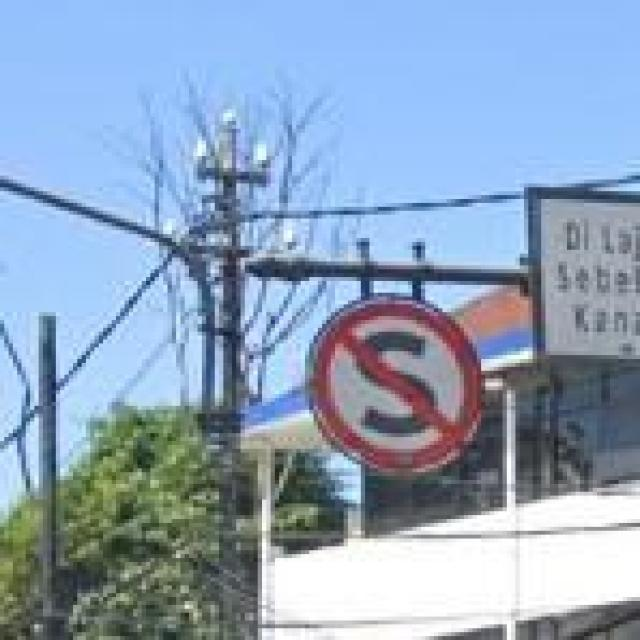traffic sign: (314, 305, 486, 473)
